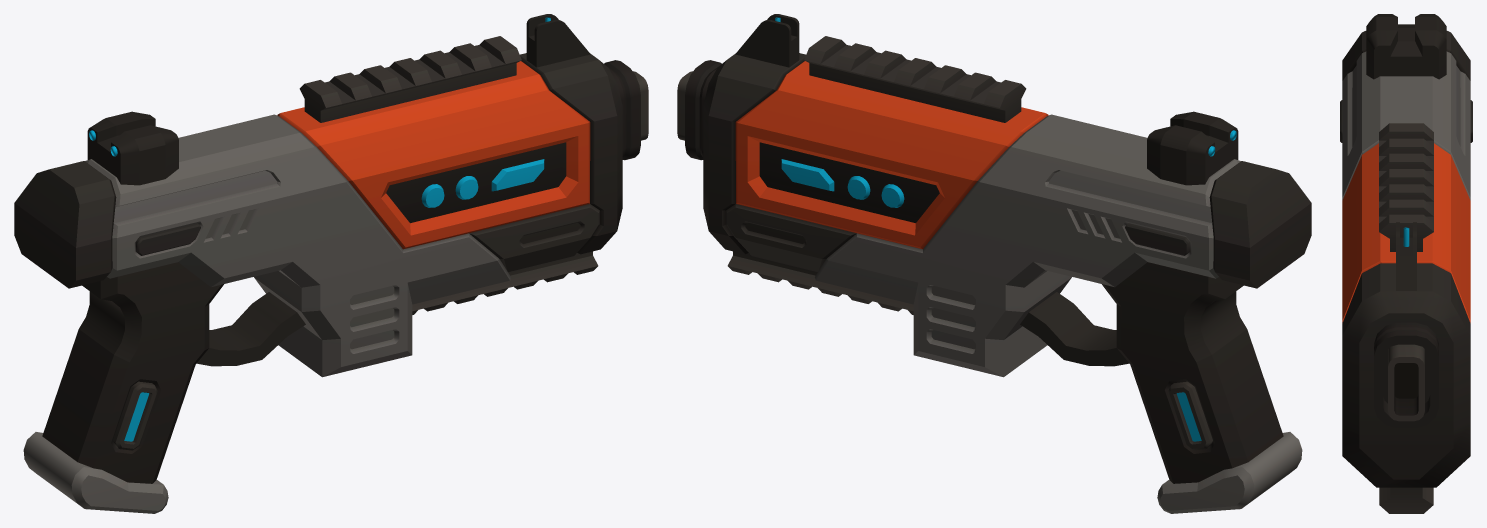
The model's file is Pistol2_Base.fbx.
The picture shows the model from 3 angles, left to right: view 1: azimuth 30°, elevation 25°; view 2: azimuth 150°, elevation 25°; view 3: azimuth 270°, elevation 25°; orthographic projection. The views are drawn at different scales.
Parts seen in each view (by area): view 1: Pistol2_Base; view 2: Pistol2_Base; view 3: Pistol2_Base.
Boxes of the visible parts, x1,y1,x2,y2 form: Pistol2_Base: (14,14,648,513); Pistol2_Base: (677,14,1311,513); Pistol2_Base: (1340,14,1472,513).
Size of the model in its own units: 33.91 by 20.5 by 6.3.
